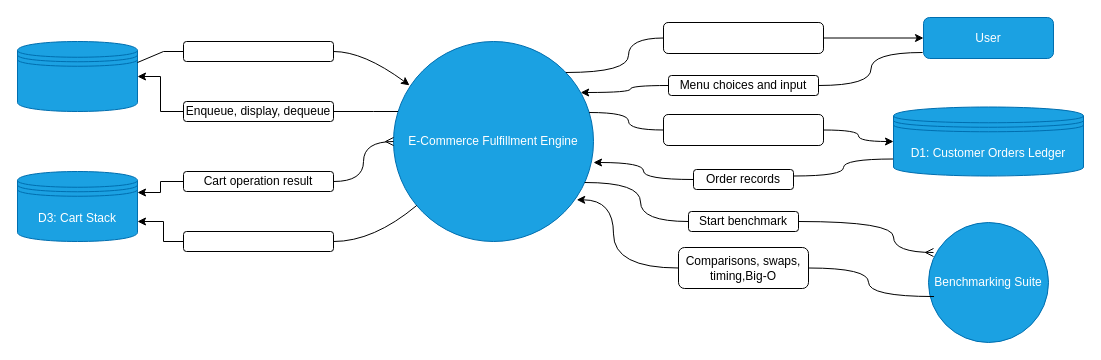
Some shapes in this 1101 by 360 pixel diagram are drawn without their labels. Each missing label, with the centre of its shape:
D2: Dispatch Queue: (77,76)
Menu output, records andmessages: (743,38)
Order details: insert, search,update: (743,130)
Push item or pop action: (258,241)
Queued order information: (258,51)
